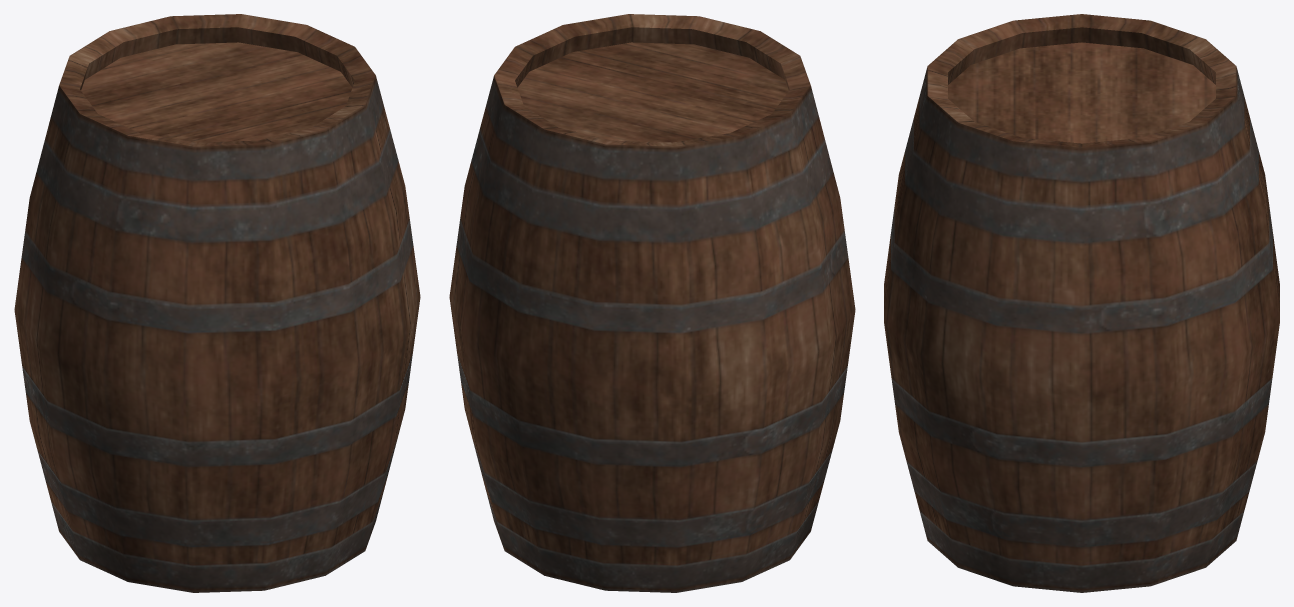
The model's file is barrel_break.fbx.
The picture shows the model from 3 angles, left to right: view 1: azimuth 30°, elevation 25°; view 2: azimuth 150°, elevation 25°; view 3: azimuth 270°, elevation 25°; orthographic projection.
Visible parts, largest first — view 1: barrel_piece_003_geo, barrel_piece_005_geo, barrel_piece_002_geo, barrel_piece_001_geo, barrel_piece_004_geo; view 2: barrel_piece_002_geo, barrel_piece_001_geo, barrel_piece_003_geo, barrel_piece_005_geo, barrel_piece_004_geo; view 3: barrel_piece_004_geo, barrel_piece_002_geo, barrel_piece_005_geo, barrel_piece_003_geo.
Boxes of the visible parts, bbox=[...] form: barrel_piece_003_geo: bbox=[14, 147, 407, 542]; barrel_piece_005_geo: bbox=[73, 47, 417, 328]; barrel_piece_002_geo: bbox=[28, 14, 354, 211]; barrel_piece_001_geo: bbox=[16, 324, 267, 592]; barrel_piece_004_geo: bbox=[264, 275, 420, 590]; barrel_piece_002_geo: bbox=[449, 47, 797, 432]; barrel_piece_001_geo: bbox=[520, 373, 840, 592]; barrel_piece_003_geo: bbox=[705, 127, 855, 416]; barrel_piece_005_geo: bbox=[515, 14, 821, 146]; barrel_piece_004_geo: bbox=[449, 299, 543, 575]; barrel_piece_004_geo: bbox=[896, 348, 1270, 592]; barrel_piece_002_geo: bbox=[1082, 14, 1279, 394]; barrel_piece_005_geo: bbox=[891, 14, 1081, 357]; barrel_piece_003_geo: bbox=[884, 177, 929, 415].
Size of the model in its own units: 0.9023 by 1.09 by 0.8797.
Materials: 1 (1 with a texture image).
